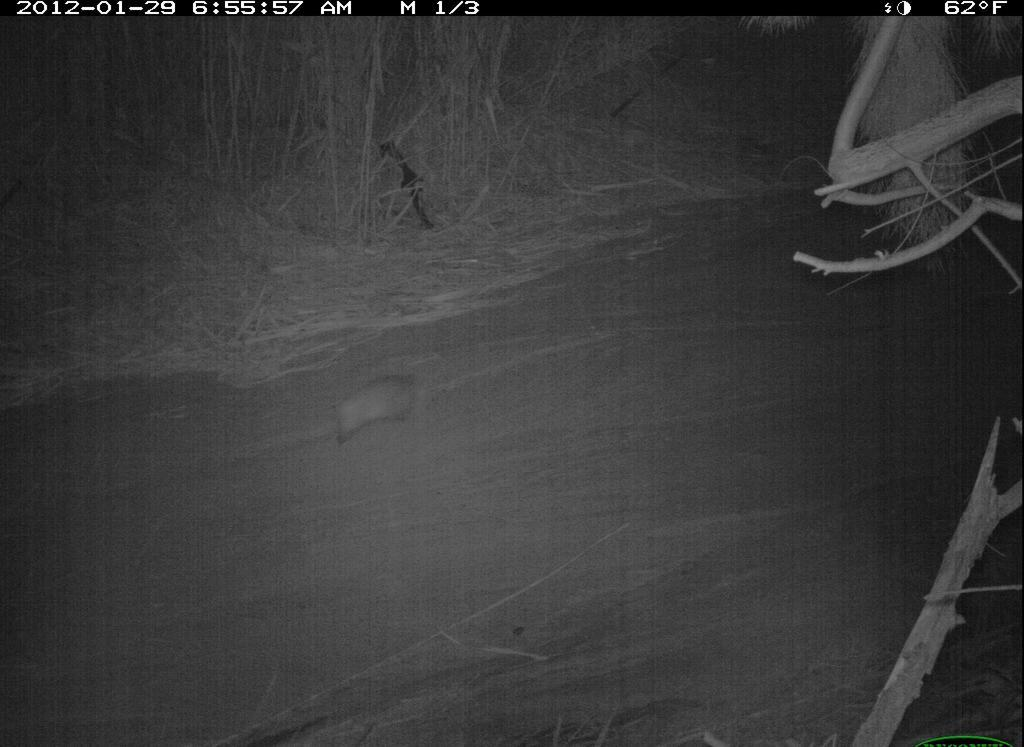opossum: (324, 361, 457, 460)
